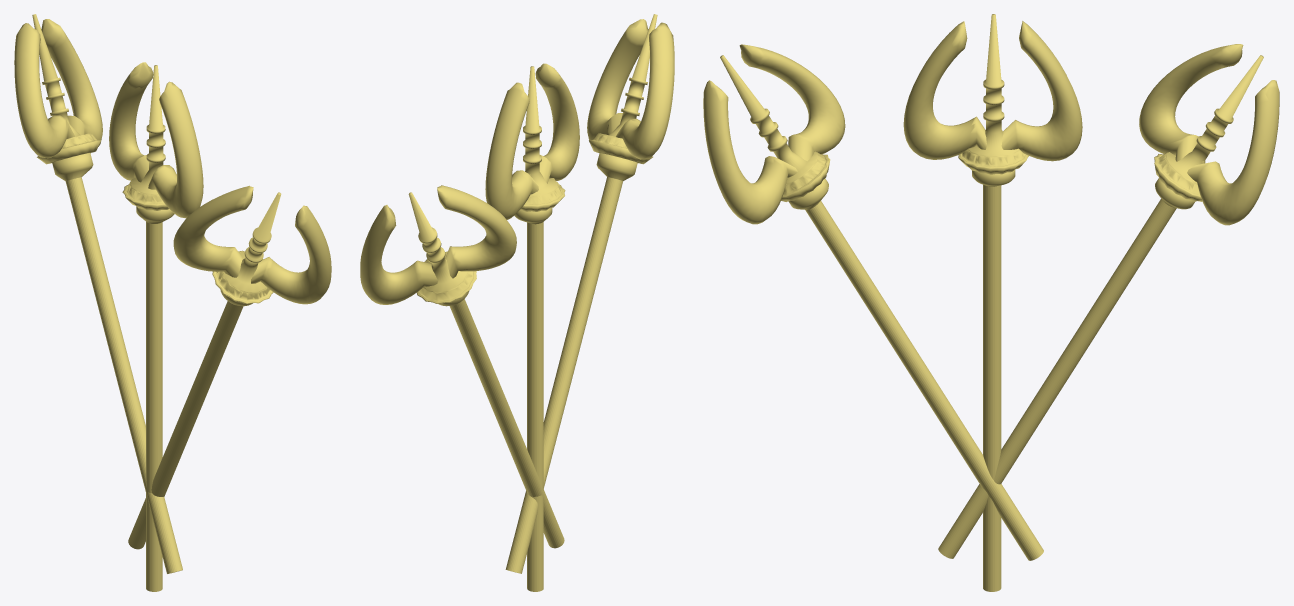
File: hindu_god_spear.glb
3 views of the same model, side by side, from view 1: azimuth 30°, elevation 25°; view 2: azimuth 150°, elevation 25°; view 3: azimuth 270°, elevation 25° (orthographic). The views are drawn at different scales.
Parts seen in each view (by area): view 1: Object_4; view 2: Object_4; view 3: Object_4.
Boxes of the visible parts, x1=… form: Object_4: x1=14, y1=14, x2=331, y2=591; Object_4: x1=360, y1=14, x2=674, y2=591; Object_4: x1=703, y1=14, x2=1279, y2=591.
Bounding box in the file's own units: 0.3855 × 1.69 × 1.54.
